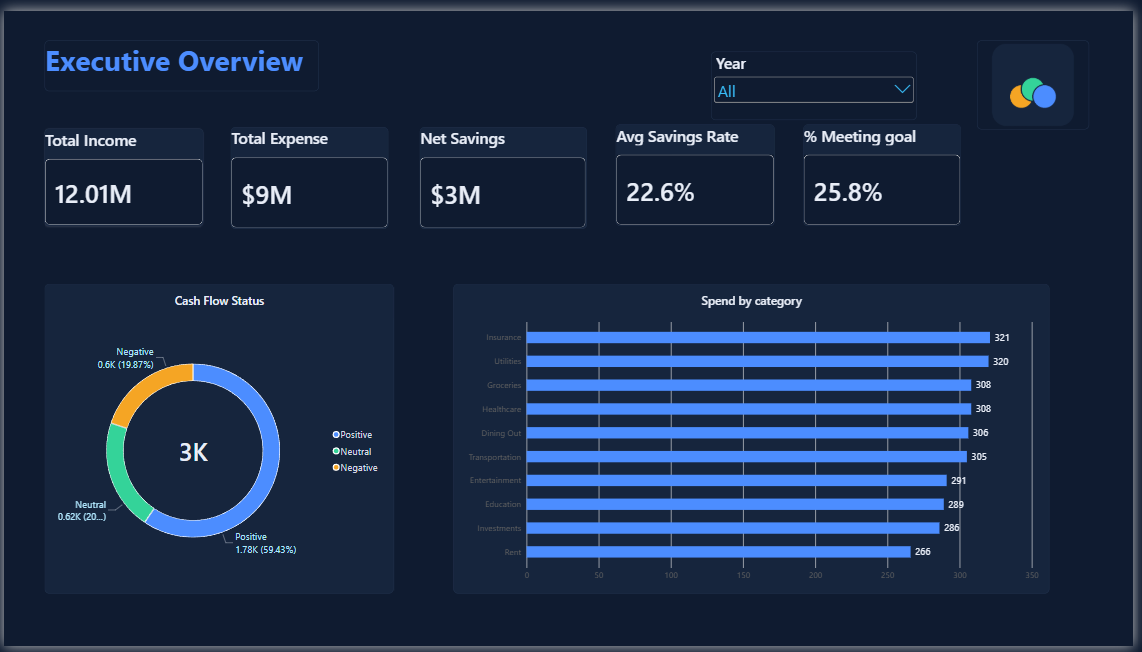

What the dashboard file says about the page in this screenshot:
{"tool":"powerbi","page":{"name":"Executive Overview","canvas":[1920,1080],"ordinal":1},"visuals":[{"type":"cardVisual","title":"Total Income","fields":{"Data":["Sum(Fact_Finance.monthly_income)"]},"box":[70,200,270.3,165.8],"z":0},{"type":"image","box":[1655.8,51.2,190.7,151.2],"z":1000},{"type":"slicer","fields":{"Values":["Dim_Date.Year"]},"box":[1202.5,69.6,350,116.7],"z":2000},{"type":"cardVisual","title":"Total Expense","fields":{"Data":["Fact_Finance.Total Expense"]},"box":[386.7,196.7,268,172.6],"z":3000},{"type":"cardVisual","title":"Avg Savings Rate","fields":{"Data":["Fact_Finance.Avg Savings Rate"]},"box":[1040,193.3,270.3,172.6],"z":4000},{"type":"cardVisual","title":"% Meeting goal","fields":{"Data":["Fact_Finance.% Users Meeting Goal"]},"box":[1360,193.3,268,172.6],"z":5000},{"type":"cardVisual","title":"Net Savings","fields":{"Data":["Fact_Finance.Net Savings"]},"box":[706.7,196.7,283.9,172.6],"z":6000},{"type":"clusteredBarChart","title":"Spend by category","fields":{"Category":["Fact_Finance.category"],"Y":["CountNonNull(Fact_Finance.category)"]},"box":[763.3,463.3,1013.3,526.7],"z":7000},{"type":"donutChart","title":" Cash Flow Status","fields":{"Category":["Fact_Finance.cash_flow_status"],"Y":["CountNonNull(Fact_Finance.cash_flow_status)"]},"box":[70,463.3,593.3,526.7],"z":8000},{"type":"textbox","box":[70,50,466.7,86.7],"z":9000}]}

Visuals, with their boxes in screenshot pixels (x1, y1, x2, y2), scaled from the page's 1920x1080 canvas onto the 1142x652 screenshot:
"Total Income" cardVisual: [42, 121, 202, 221]
image: [985, 31, 1098, 122]
slicer - Dim_Date.Year: [715, 42, 923, 112]
"Total Expense" cardVisual: [230, 119, 389, 223]
"Avg Savings Rate" cardVisual: [619, 117, 779, 221]
"% Meeting goal" cardVisual: [809, 117, 968, 221]
"Net Savings" cardVisual: [420, 119, 589, 223]
"Spend by category" clusteredBarChart: [454, 280, 1057, 598]
" Cash Flow Status" donutChart: [42, 280, 395, 598]
textbox: [42, 30, 319, 83]
